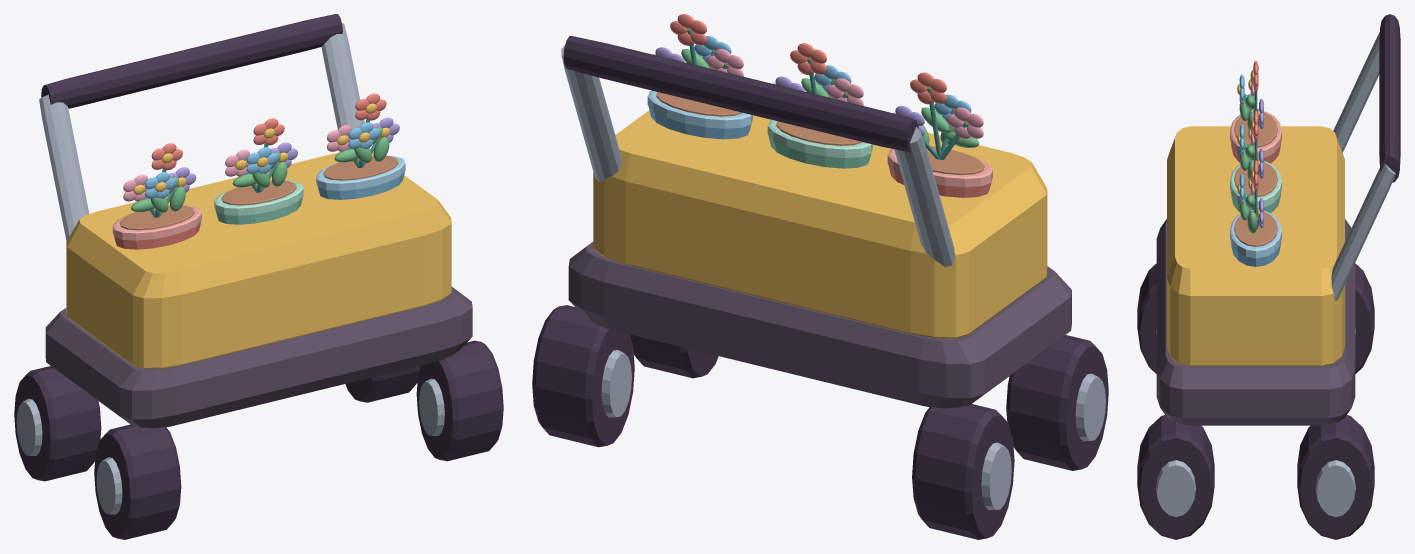
Rendered from flower_cart.glb.
3 renders of one model, left to right at view 1: azimuth 30°, elevation 25°; view 2: azimuth 150°, elevation 25°; view 3: azimuth 270°, elevation 25°, orthographic. The views are drawn at different scales.
Parts seen in each view (by area): view 1: model, tire, hub, decor_soil, decor_rim, decor_pot; view 2: model, tire, hub, decor_rim, decor_pot, decor_soil; view 3: model, tire, hub, decor_soil, decor_rim, decor_pot.
Part boxes in pixels (left/top/right/bottom): model: left=39, top=14, right=472, bottom=428; tire: left=14, top=340, right=503, bottom=539; hub: left=16, top=378, right=444, bottom=514; decor_soil: left=119, top=156, right=398, bottom=230; decor_rim: left=112, top=155, right=405, bottom=240; decor_pot: left=114, top=172, right=404, bottom=249; model: left=561, top=14, right=1071, bottom=408; tire: left=532, top=305, right=1108, bottom=539; hub: left=601, top=350, right=1105, bottom=510; decor_rim: left=647, top=90, right=992, bottom=187; decor_pot: left=648, top=106, right=991, bottom=197; decor_soil: left=656, top=92, right=984, bottom=175; model: left=1156, top=14, right=1400, bottom=425; tire: left=1137, top=263, right=1374, bottom=539; hub: left=1156, top=327, right=1355, bottom=516; decor_soil: left=1234, top=111, right=1277, bottom=246; decor_rim: left=1230, top=110, right=1281, bottom=258; decor_pot: left=1230, top=142, right=1281, bottom=266.
Size of the model in its own units: 1.1 by 1 by 0.65.
